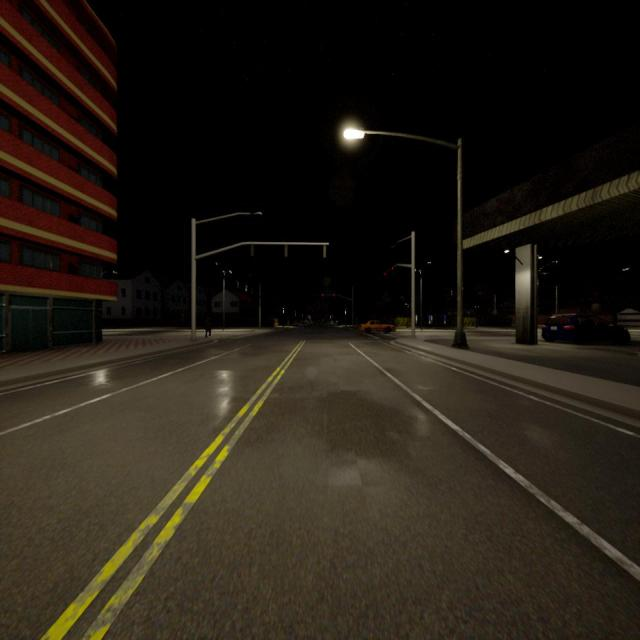Pedestrian: (205, 316, 211, 338)
Vehicle: (543, 312, 629, 344), (359, 320, 395, 332)
traffic_light: (284, 245, 288, 256), (323, 245, 326, 258), (251, 245, 253, 255), (384, 272, 386, 276), (392, 266, 393, 270), (333, 294, 335, 296), (322, 294, 323, 297)
